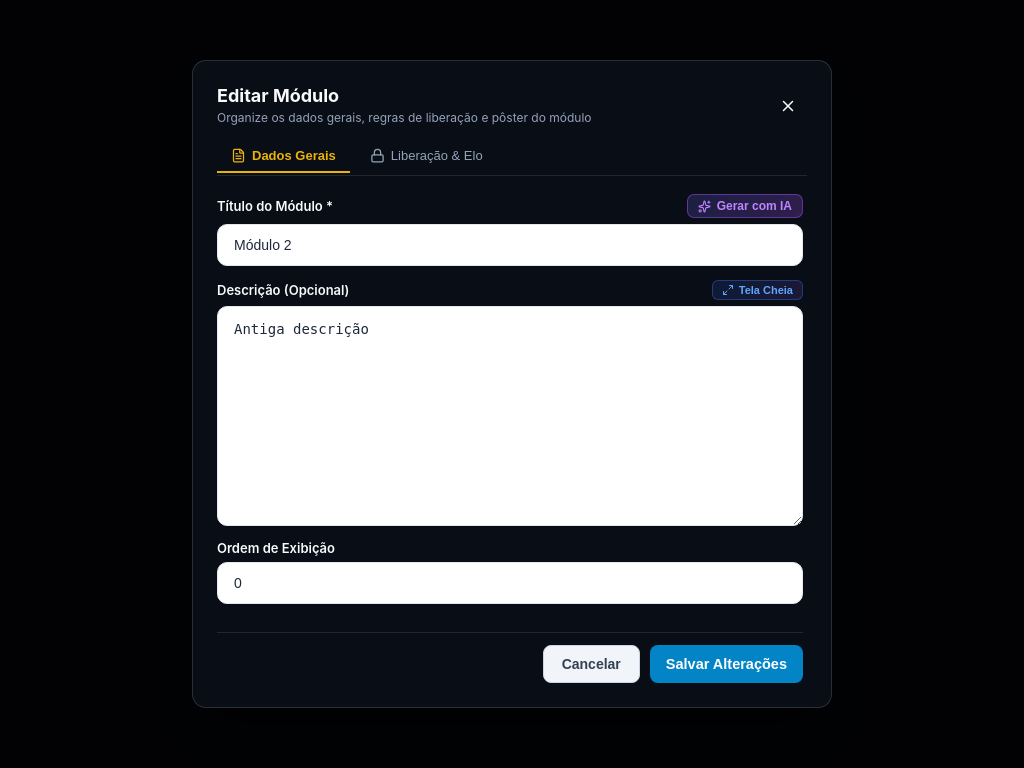
LessonModal & ConfirmDeleteModal Components › opens confirmation modal and generates module title and description with AI when confirmed
This screenshot has width=1024, height=768.
// Clica no botão "Gerar com IA"
Click the button with test id "btn-generate-module-ai-overview" at (745, 206), box x1=687 y1=194 x2=803 y2=218
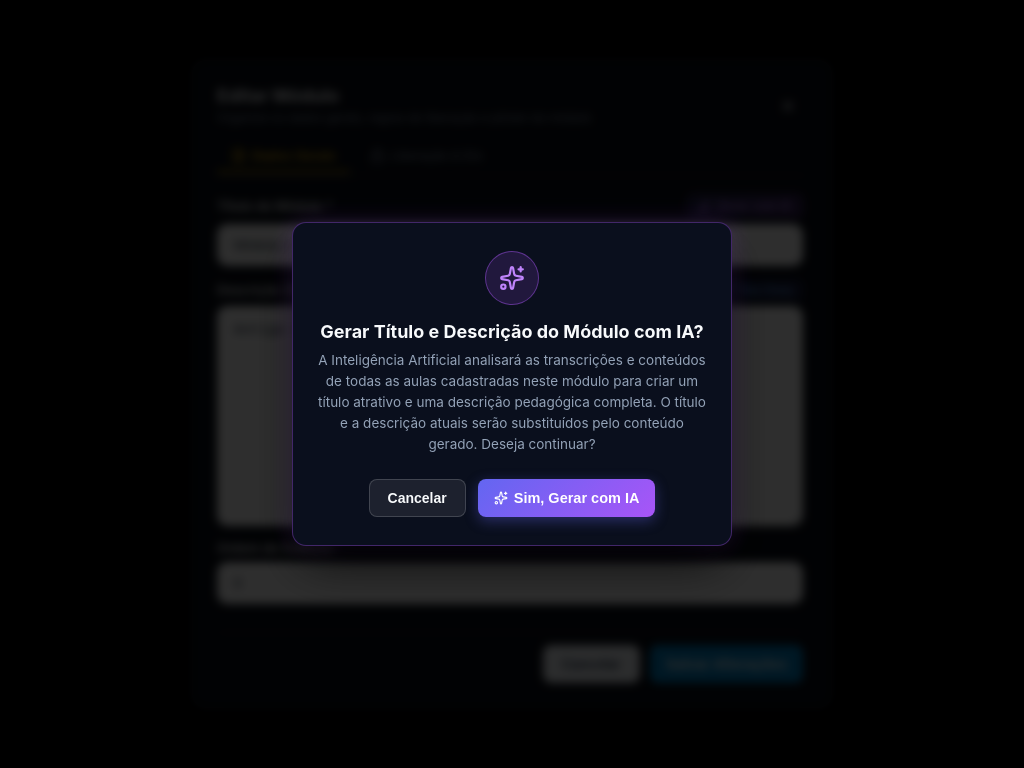
Expected: the dialog with test id "confirm-generate-ai-metadata-modal" is shown, x1=292 y1=222 x2=732 y2=546
Expected: the heading "Gerar Título e Descrição do Módulo com IA?" is shown, x1=317 y1=321 x2=707 y2=342
// Clica em "Sim, Gerar com IA"
Click the button with test id "confirm-generate-ai-metadata-btn" at (567, 498), box x1=478 y1=479 x2=655 y2=517
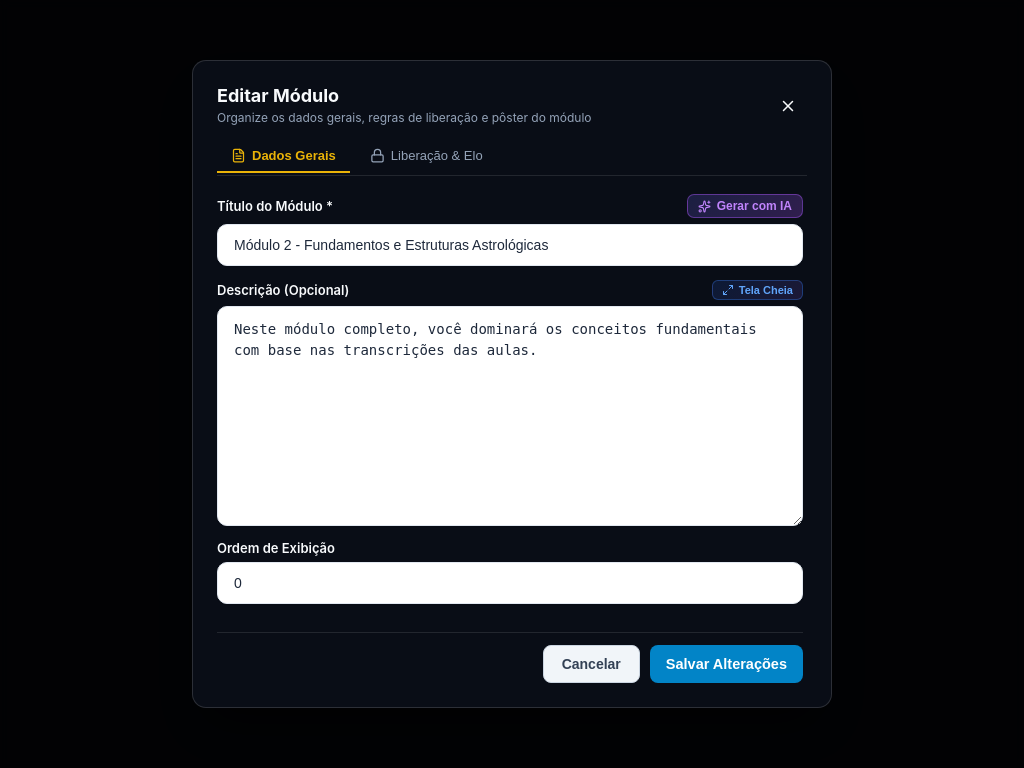
Expected: the field with test id "module-title-input" holds "Módulo 2 - Fundamentos e Estruturas Astrológicas", x1=217 y1=224 x2=803 y2=266
Expected: the text box with test id "module-description-input" holds "Neste módulo completo, você dominará os conceitos fundamentais com base nas transcrições das aulas.", x1=217 y1=306 x2=803 y2=526
